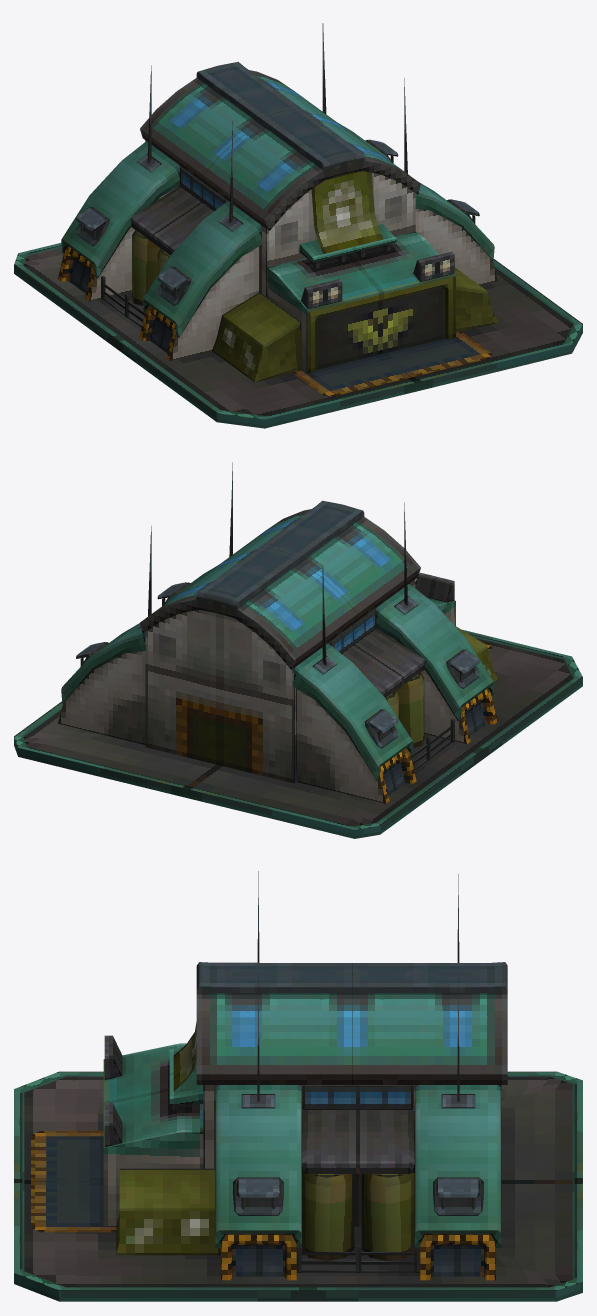
File: cangku_01.fbx
3 renders of one model, top to bottom at view 1: azimuth 30°, elevation 25°; view 2: azimuth 150°, elevation 25°; view 3: azimuth 270°, elevation 25°, orthographic. The views are drawn at different scales.
Parts seen in each view (by area): view 1: cangku_01; view 2: cangku_01; view 3: cangku_01.
Part boxes in pixels (left/top/right/bottom): cangku_01: left=14, top=23, right=582, bottom=428; cangku_01: left=14, top=462, right=582, bottom=838; cangku_01: left=14, top=871, right=582, bottom=1301.
Bounding box in the file's own units: 17.98 × 10.47 × 19.74.
1 material, 1 textured.
